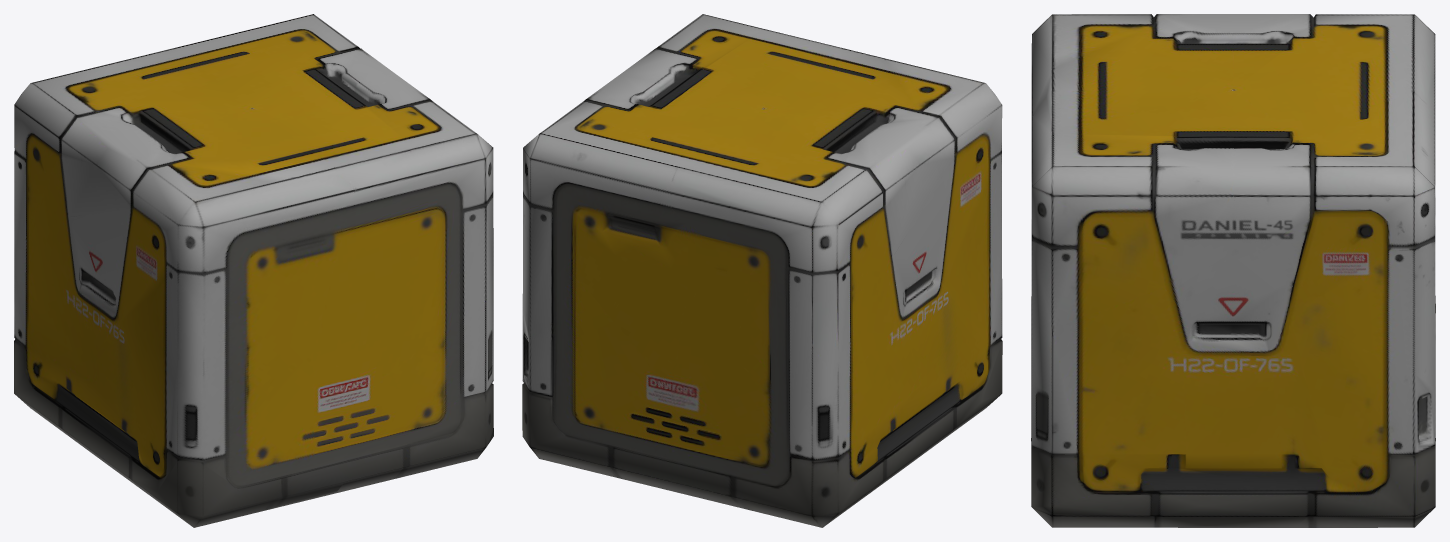
3 renders of one model, left to right at view 1: azimuth 30°, elevation 25°; view 2: azimuth 150°, elevation 25°; view 3: azimuth 270°, elevation 25°, orthographic. The views are drawn at different scales.
Parts seen in each view (by area): view 1: tripo_node_b030e414; view 2: tripo_node_b030e414; view 3: tripo_node_b030e414.
Boxes of the visible parts, x1,y1,x2,y2 form: tripo_node_b030e414: (14, 14, 493, 527); tripo_node_b030e414: (522, 14, 1002, 527); tripo_node_b030e414: (1031, 14, 1435, 527).
Bounding box in the file's own units: 0.9992 × 0.981 × 0.9986.
Materials: 1 (1 with a texture image).
